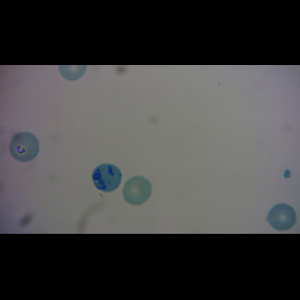aggregate reticulocyte: (91, 162, 123, 193)
erythrocyte: (8, 131, 40, 164), (122, 174, 154, 206), (265, 202, 298, 232)
